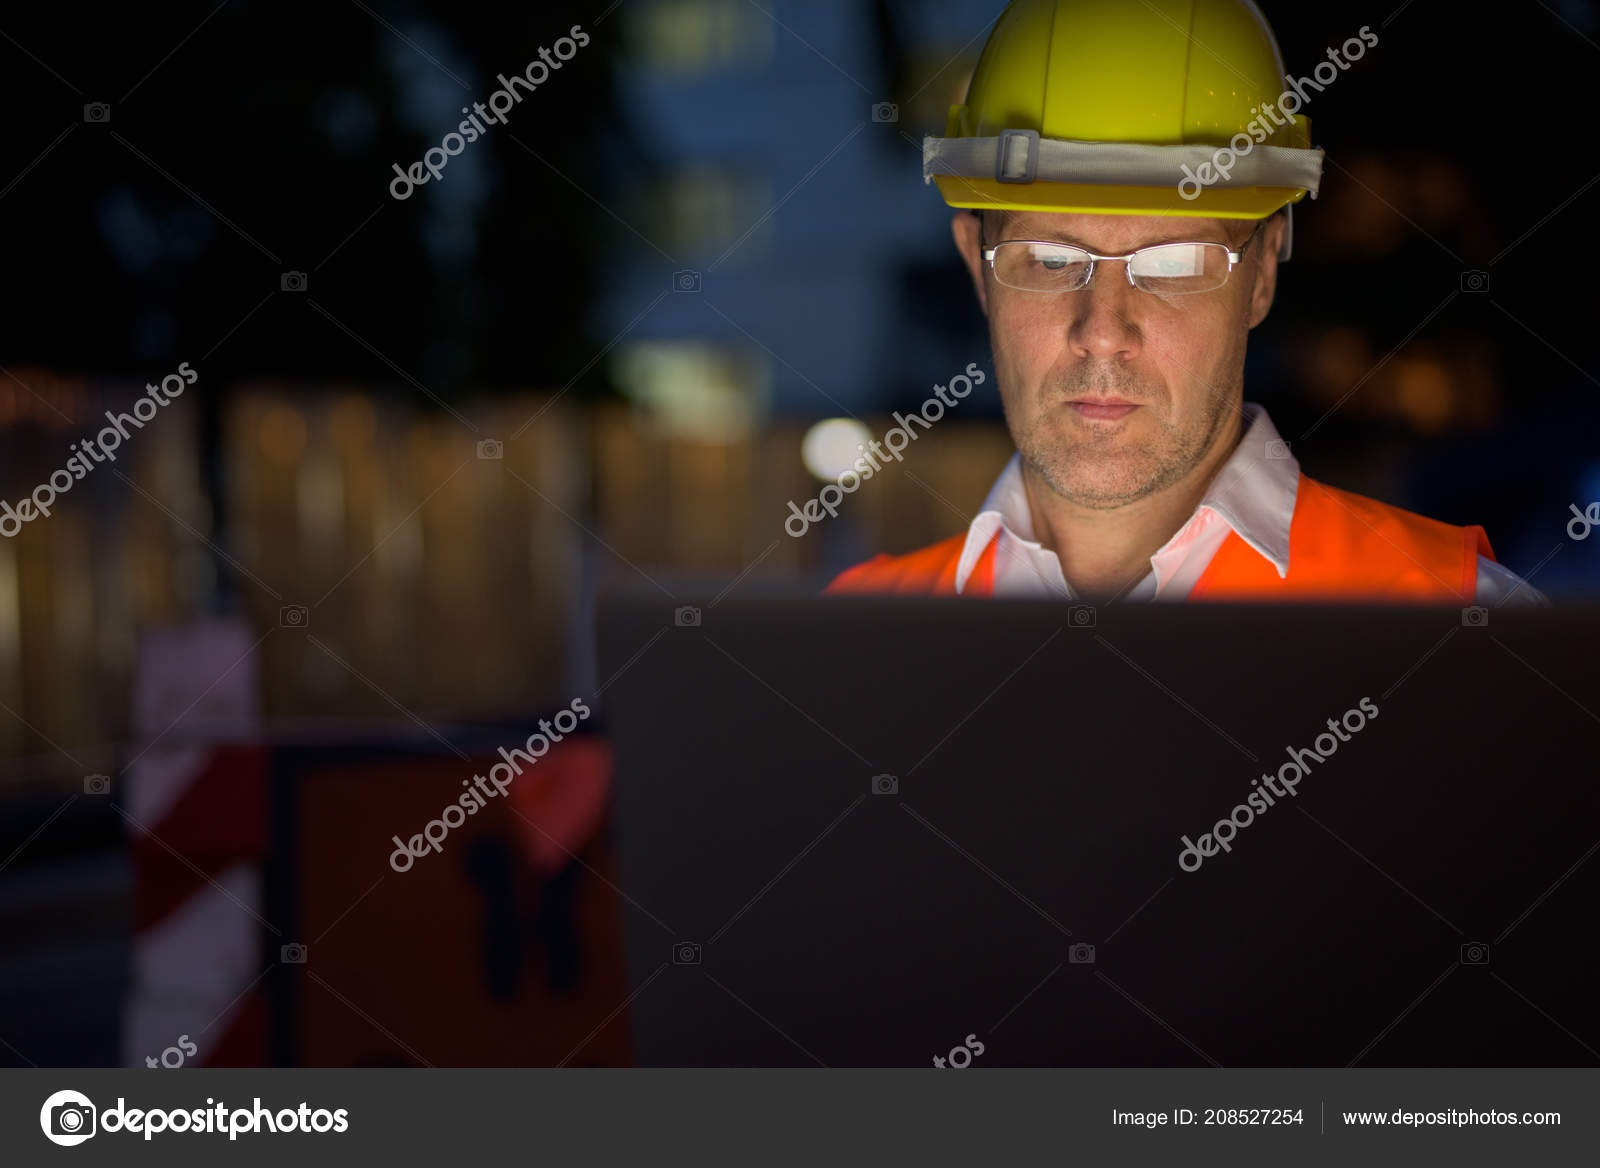yellow: (944, 5, 1317, 493)
